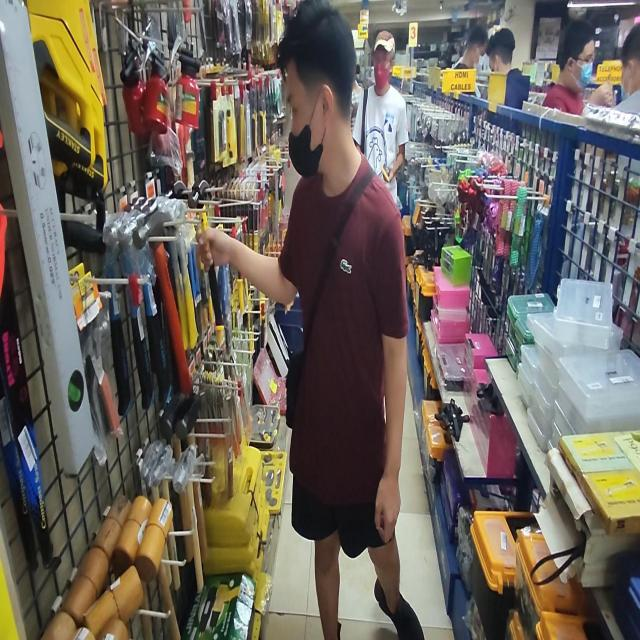hammer: (132, 211, 192, 393)
